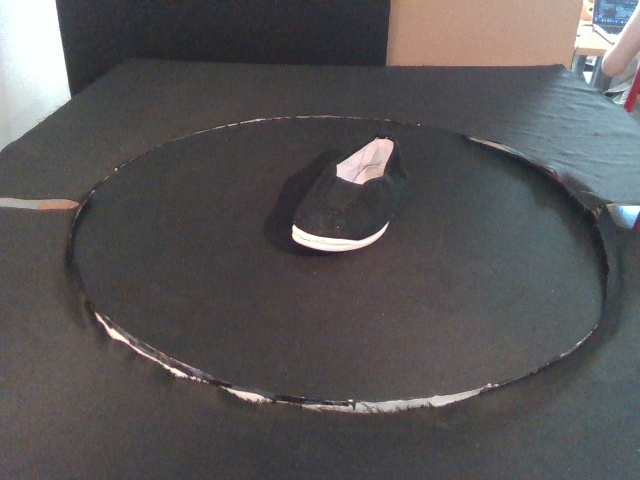shoe: (290, 133, 411, 254)
